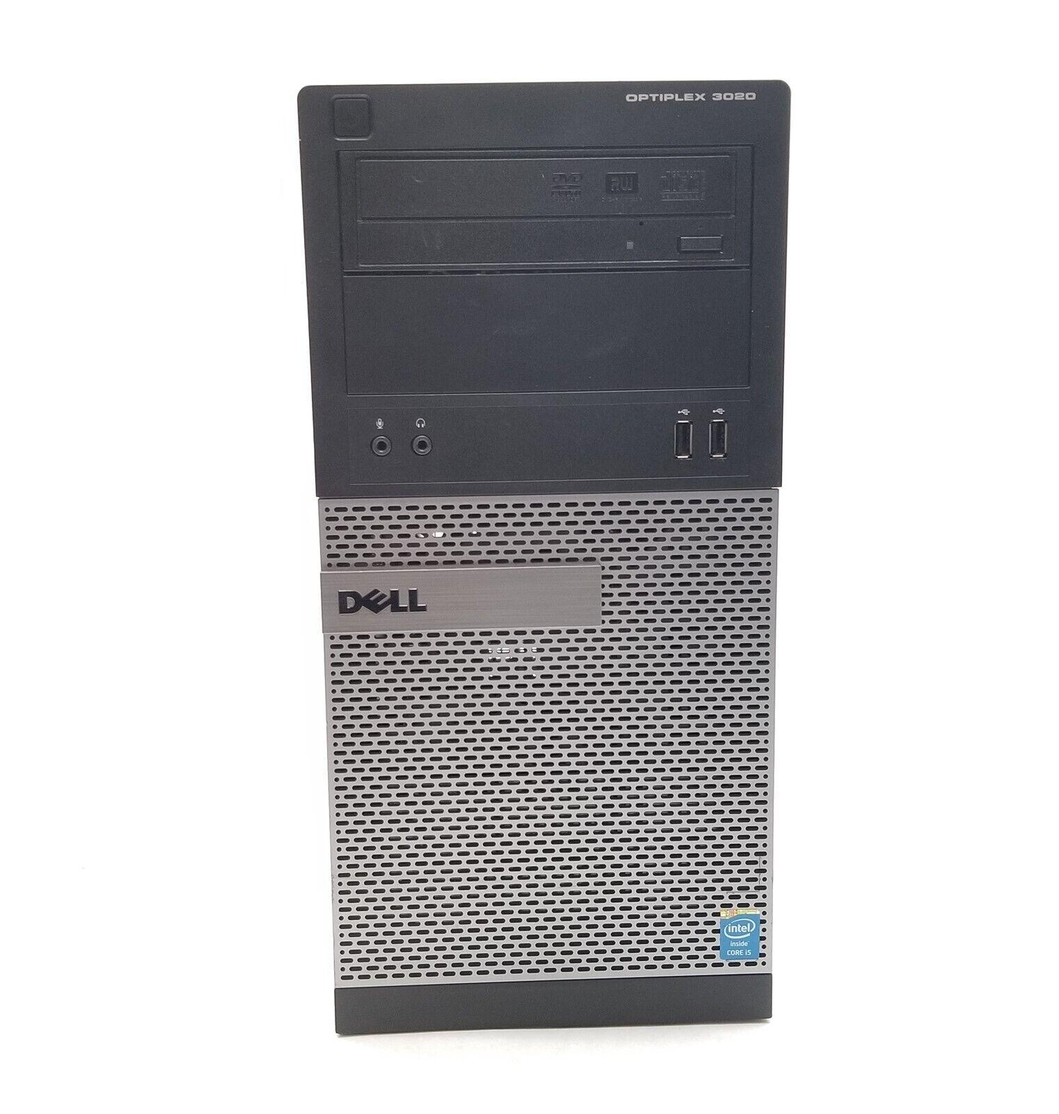computer_tower: (291, 75, 800, 1034)
